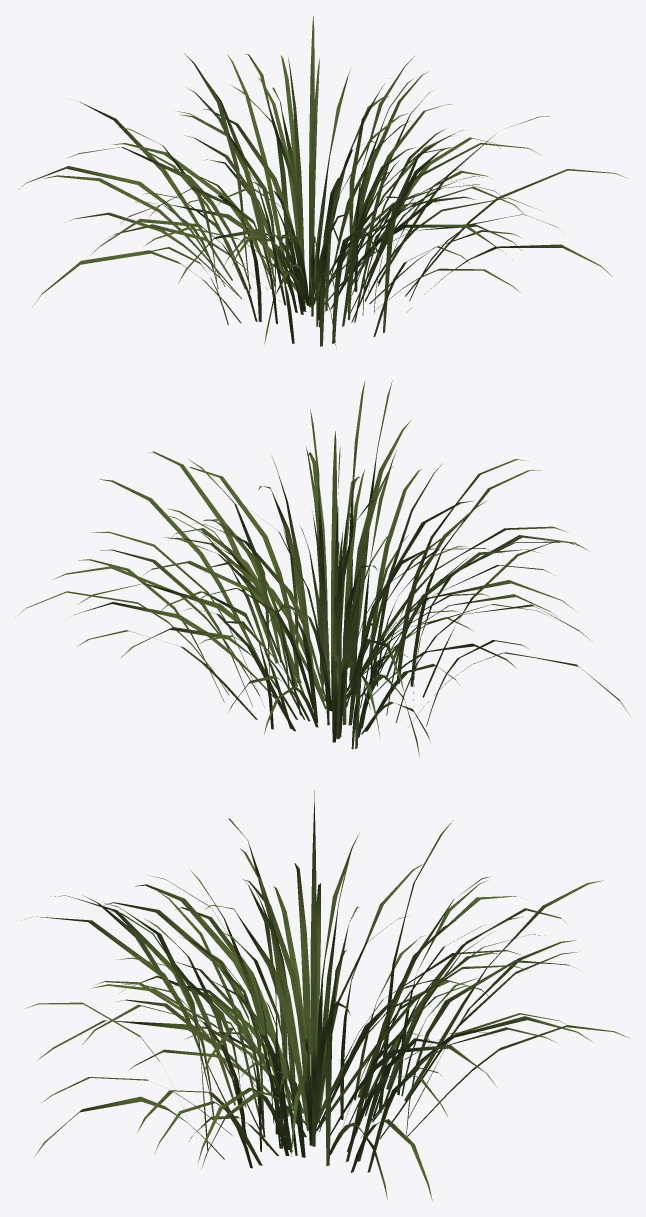
Rendered from Grass02F.fbx.
3 renders of one model, top to bottom at view 1: azimuth 30°, elevation 25°; view 2: azimuth 150°, elevation 25°; view 3: azimuth 270°, elevation 25°, orthographic. The views are drawn at different scales.
Visible parts, largest first — view 1: Grass02F; view 2: Grass02F; view 3: Grass02F.
Part boxes in pixels (x1=…): Grass02F: x1=19, y1=16, x2=627, y2=347; Grass02F: x1=15, y1=380, x2=629, y2=757; Grass02F: x1=24, y1=790, x2=629, y2=1200.
Bounding box in the file's own units: 3.02 × 1.34 × 2.57.
